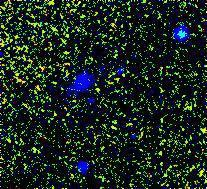star: (83, 74, 113, 104)
